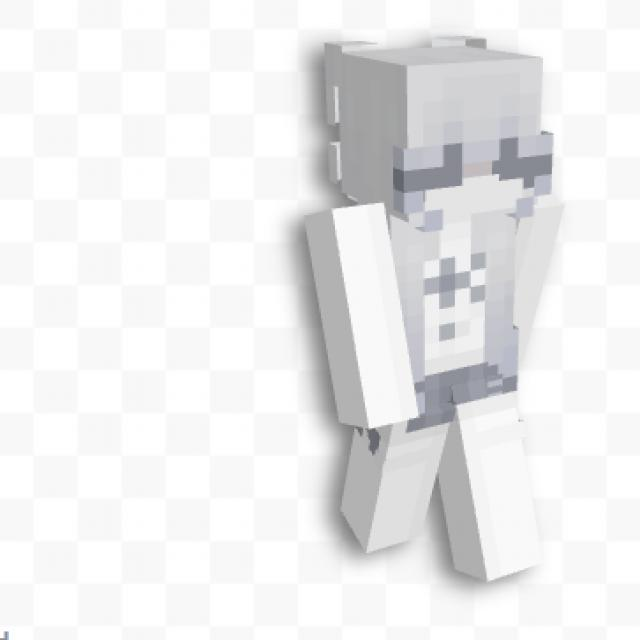Player: (302, 35, 567, 584)
